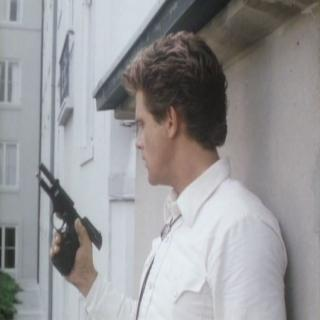gun: (32, 155, 110, 271)
